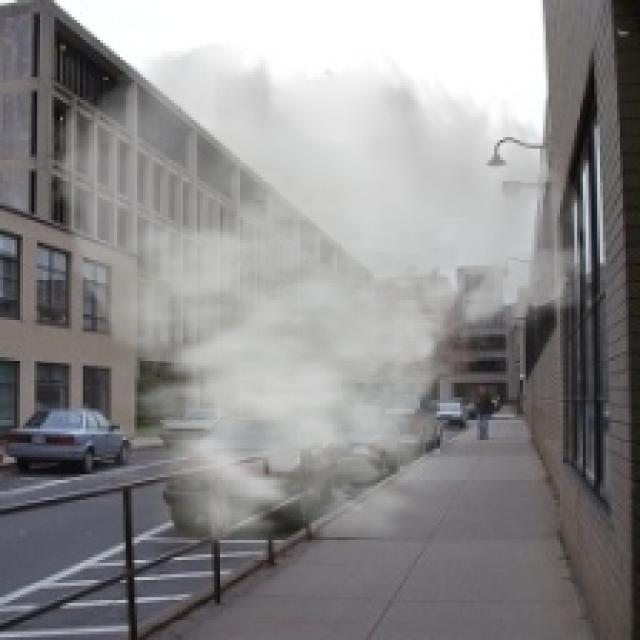smoke: (43, 40, 594, 577)
